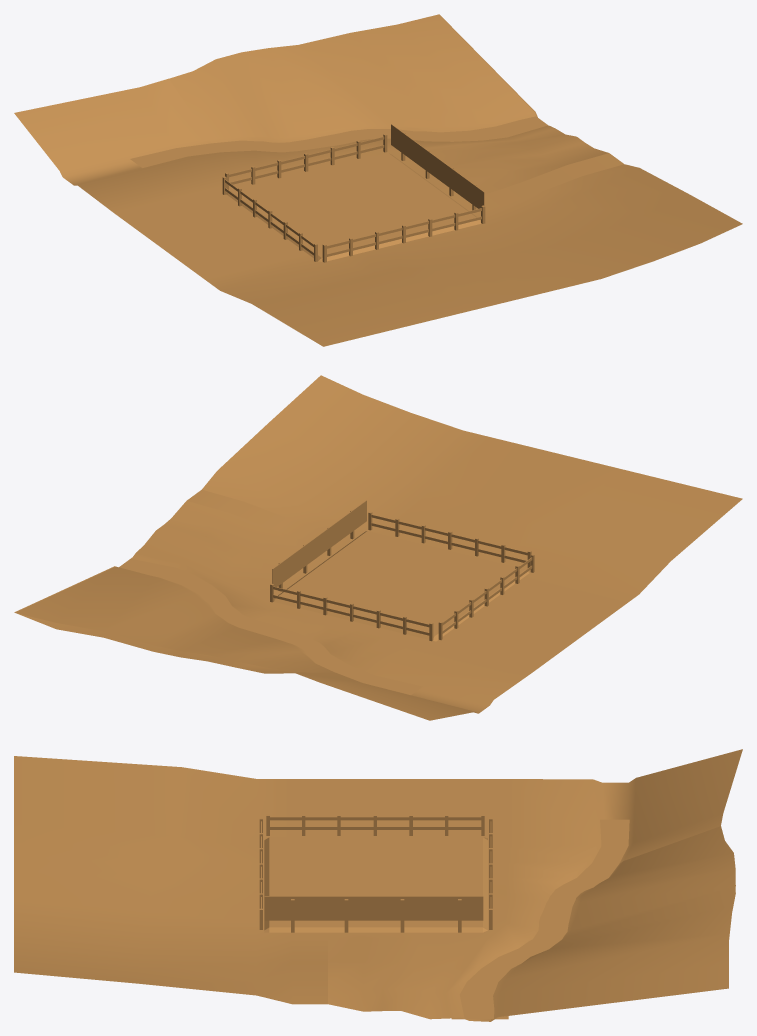
File: dirt_lot.fbx
3 renders of one model, top to bottom at view 1: azimuth 30°, elevation 25°; view 2: azimuth 150°, elevation 25°; view 3: azimuth 270°, elevation 25°, orthographic. The views are drawn at different scales.
Visible parts, largest first — view 1: post; view 2: post; view 3: post.
Boxes of the visible parts, x1=… form: post: x1=14, y1=14, x2=742, y2=346; post: x1=14, y1=375, x2=742, y2=720; post: x1=14, y1=749, x2=742, y2=1021.
Size of the model in its own units: 3195 by 334 by 4086.
